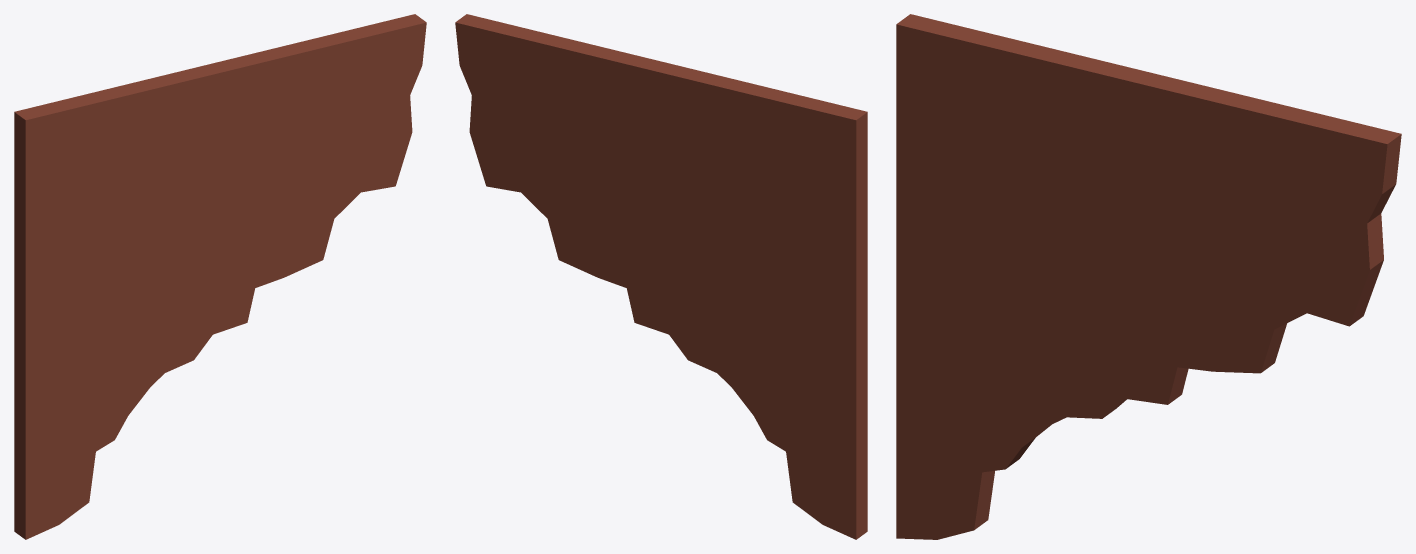
The model's file is Tile06.glb.
3 renders of one model, left to right at view 1: azimuth 30°, elevation 25°; view 2: azimuth 150°, elevation 25°; view 3: azimuth 330°, elevation 25°, orthographic. The views are drawn at different scales.
Parts seen in each view (by area): view 1: 06; view 2: 06; view 3: 06.
Part boxes in pixels (bbox=[...]): 06: bbox=[14, 14, 426, 539]; 06: bbox=[455, 14, 867, 539]; 06: bbox=[896, 14, 1401, 539].
Bounding box in the file's own units: 2 × 2 × 0.1.
Materials: 1 (1 with a texture image).
